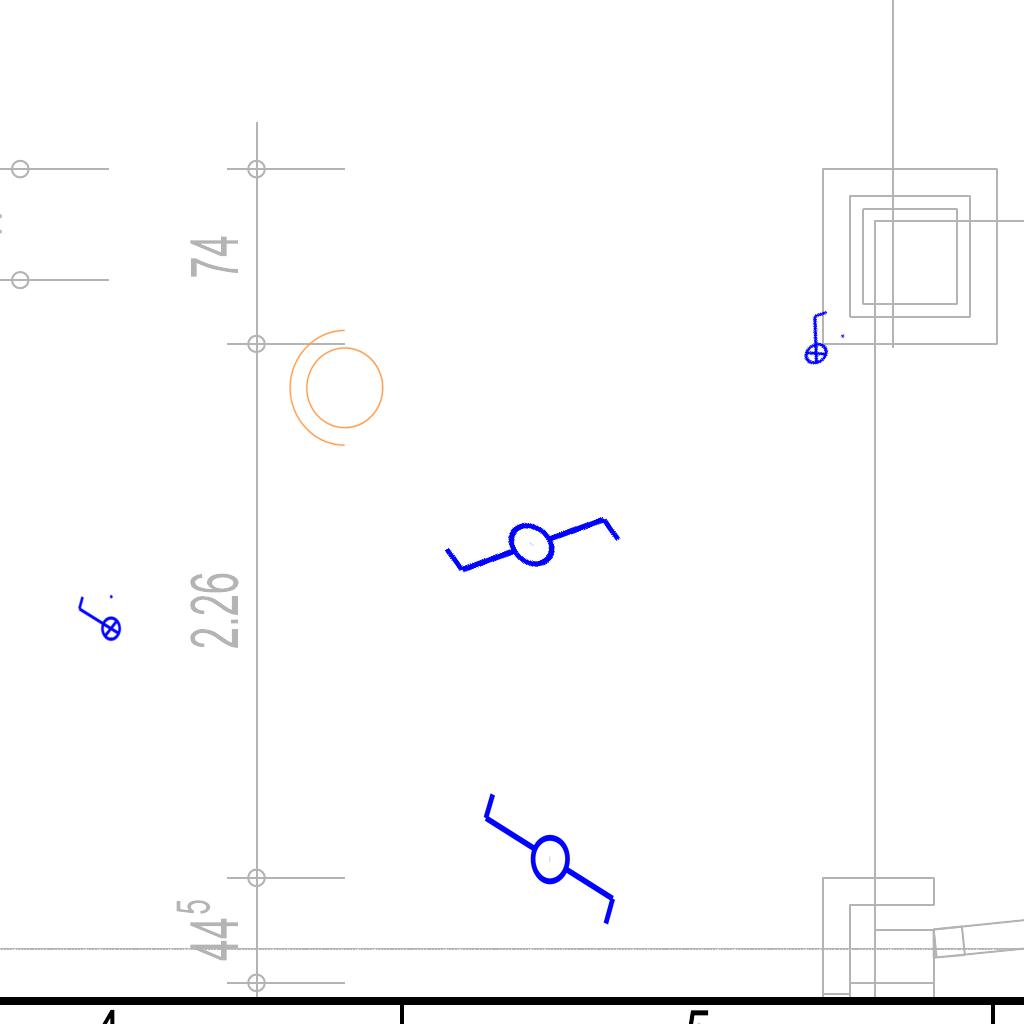Ausschalter_beleuchtet: (779, 302, 853, 374), (74, 592, 122, 648)
Scheinwerfer_fuer_Alarmbeleuchtung: (284, 325, 396, 457)
Wechselschalter: (420, 432, 633, 644), (476, 789, 620, 946)
